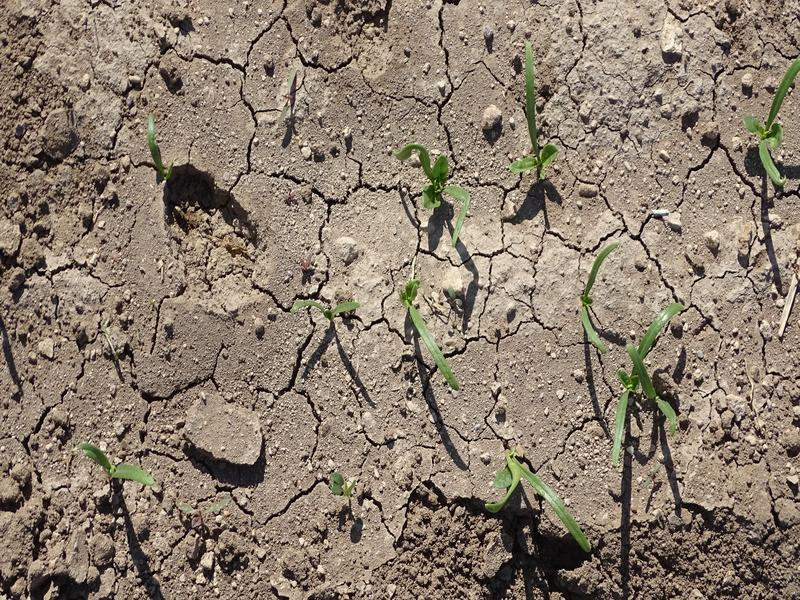Espinaca: (586, 253, 690, 451), (490, 451, 595, 551), (397, 137, 478, 241), (400, 277, 469, 392), (742, 59, 795, 184), (512, 47, 559, 173), (82, 441, 150, 487), (294, 293, 358, 319)
